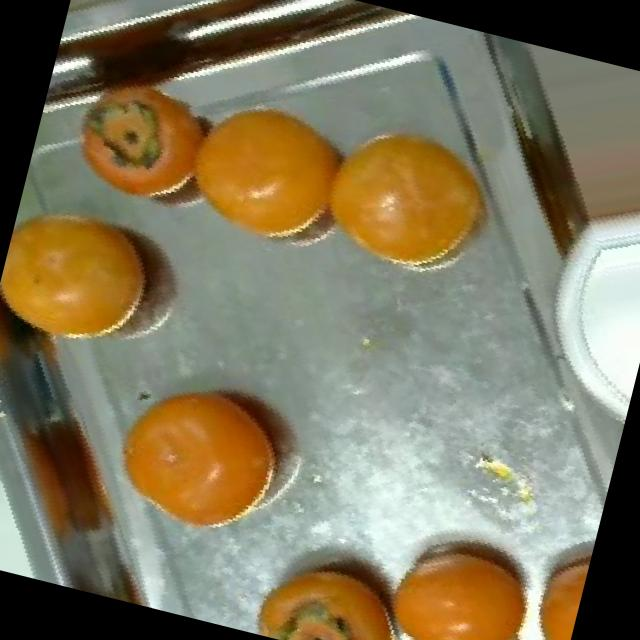Fruit: (70, 337, 336, 580), (294, 88, 556, 324), (31, 43, 264, 249), (0, 174, 207, 392), (349, 498, 576, 640), (228, 522, 444, 640)
